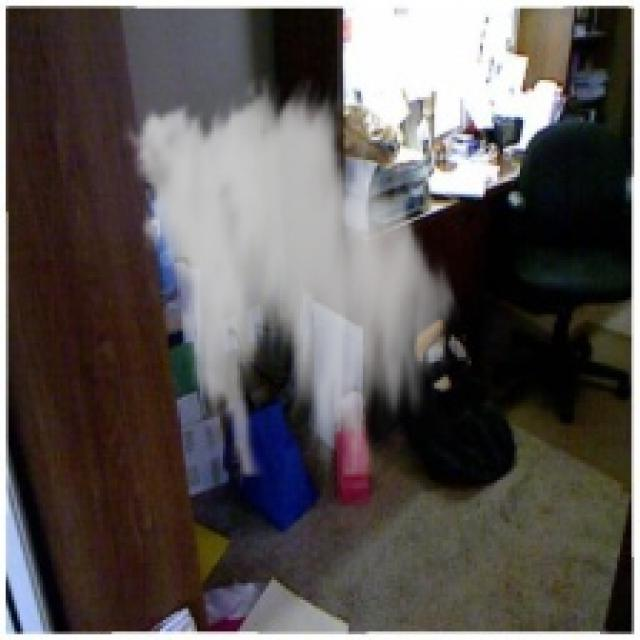smoke: (117, 74, 466, 477)
